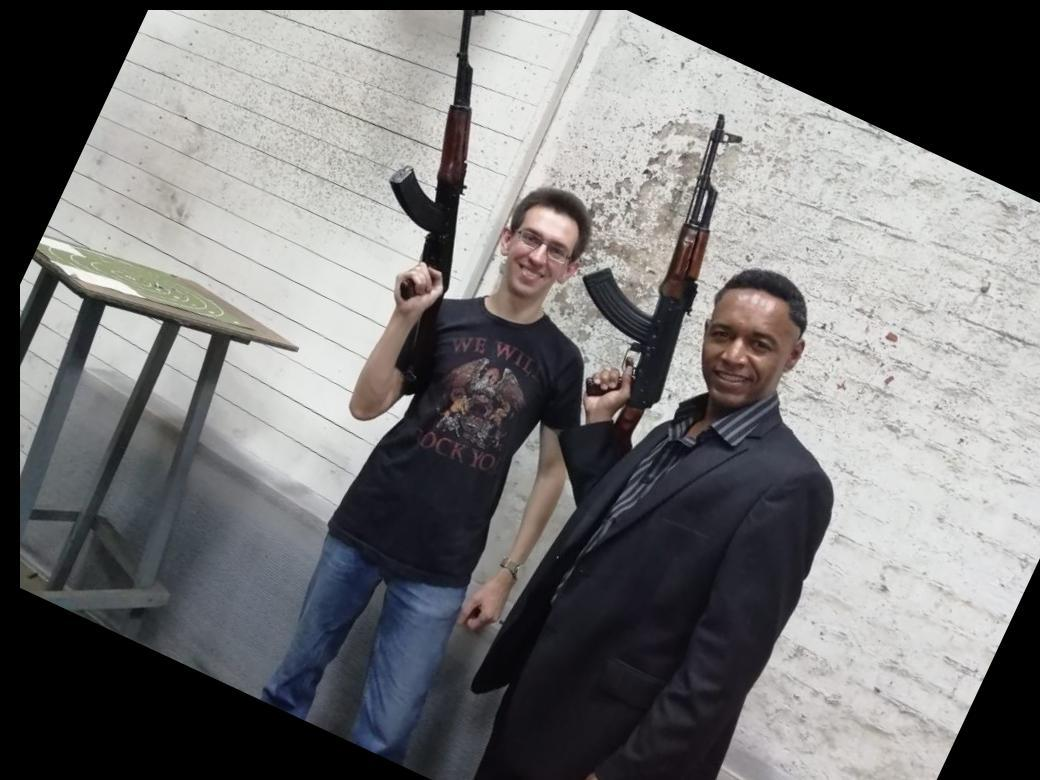larga: (582, 113, 744, 463), (388, 10, 487, 370)
